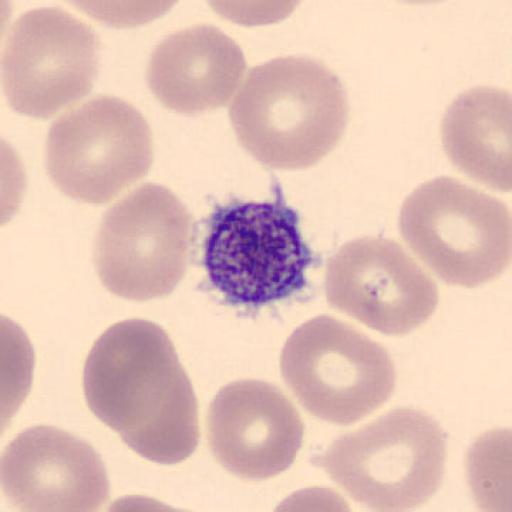RBC: (80, 316, 200, 467), (228, 51, 351, 173), (278, 311, 398, 428), (322, 405, 449, 512), (395, 174, 512, 290), (90, 180, 194, 304), (42, 93, 156, 206), (322, 232, 440, 338), (2, 1, 102, 120), (80, 316, 177, 432), (205, 375, 306, 484), (144, 21, 248, 117), (2, 421, 111, 512), (439, 82, 512, 192), (462, 423, 512, 512), (2, 312, 36, 432), (54, 0, 188, 30), (202, 0, 306, 28), (1, 134, 29, 230), (266, 484, 358, 512), (89, 491, 210, 512), (0, 0, 17, 45), (378, 0, 465, 7)
